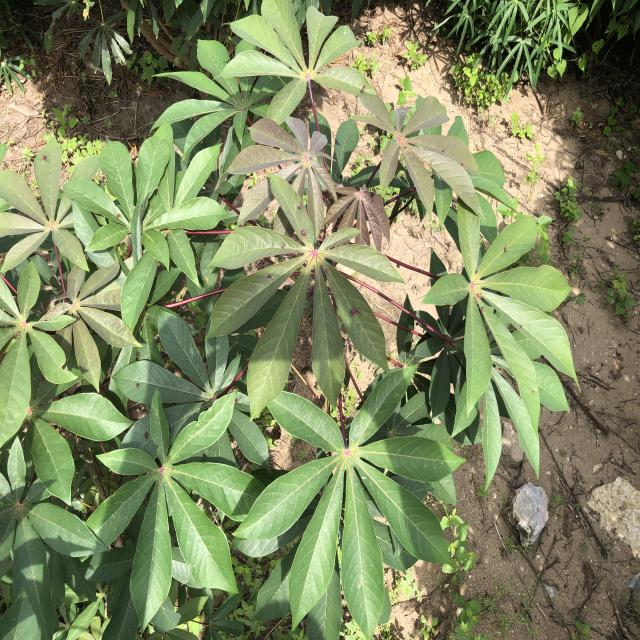Mosca: (468, 272, 490, 315), (340, 298, 367, 326), (293, 192, 309, 219), (291, 225, 311, 243), (138, 423, 155, 442), (259, 266, 280, 281), (498, 244, 514, 262), (37, 151, 54, 166), (109, 209, 122, 222), (133, 377, 142, 390)
